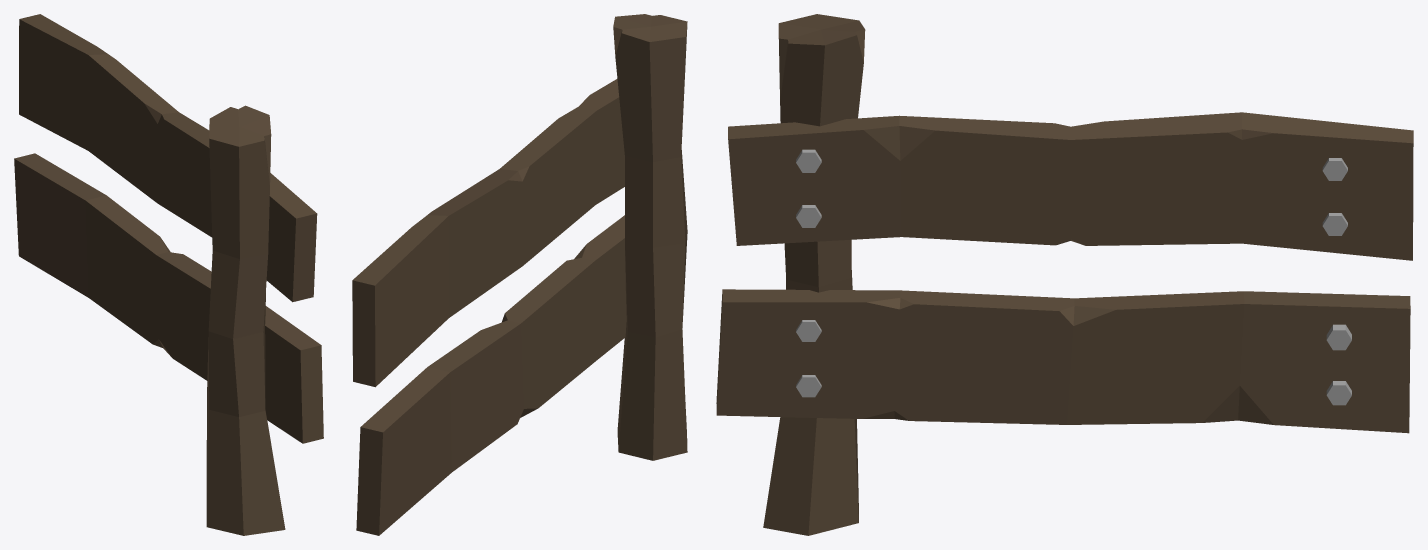
Rendered from M_fence 1.fbx.
3 renders of one model, left to right at view 1: azimuth 30°, elevation 25°; view 2: azimuth 150°, elevation 25°; view 3: azimuth 270°, elevation 25°, orthographic. The views are drawn at different scales.
Visible parts, largest first — view 1: fence1; view 2: fence1; view 3: fence1.
Boxes of the visible parts, box(x1,y1,x2,y2) form: fence1: box(14, 14, 323, 535); fence1: box(352, 14, 687, 535); fence1: box(716, 14, 1413, 535).
Bounding box in the file's own units: 8.84 × 42.45 × 54.57.
